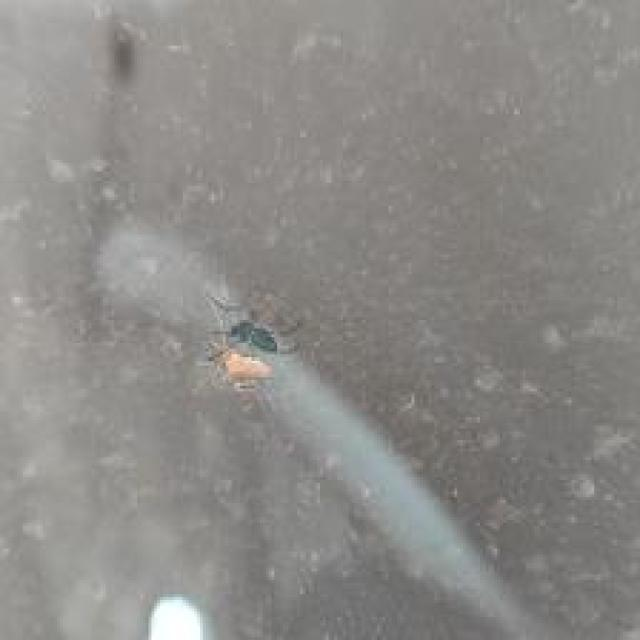Culex: (198, 290, 298, 396)
